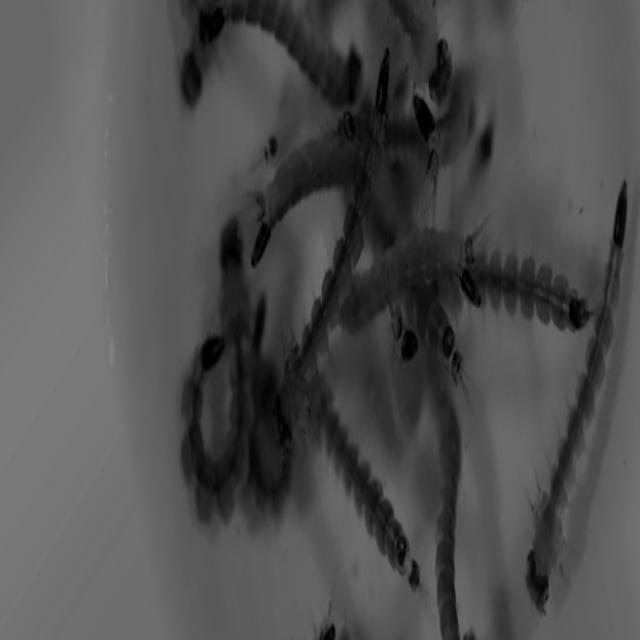larvas: (261, 48, 421, 452), (511, 176, 640, 623), (297, 377, 428, 598), (180, 215, 251, 511), (186, 0, 374, 108), (342, 215, 481, 336), (421, 396, 479, 640), (245, 116, 345, 256), (482, 245, 593, 335), (378, 0, 464, 110), (252, 297, 278, 502), (411, 102, 446, 232), (393, 313, 464, 365), (471, 108, 496, 210), (173, 38, 211, 101)
